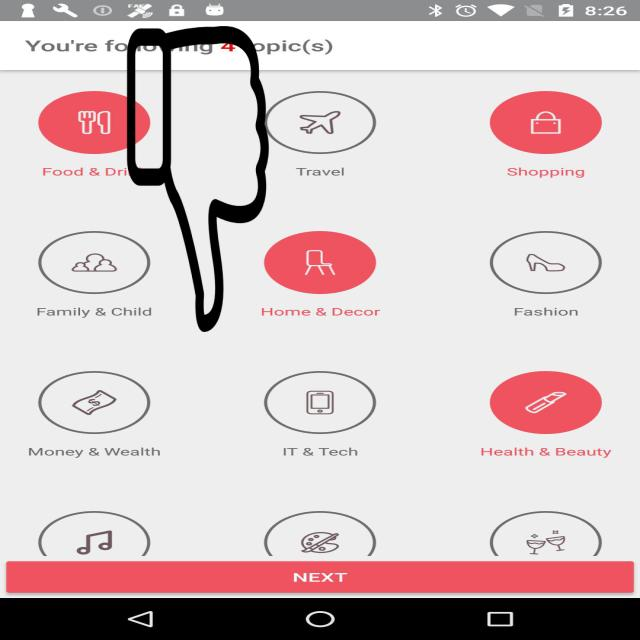obstruction: (125, 26, 271, 332)
